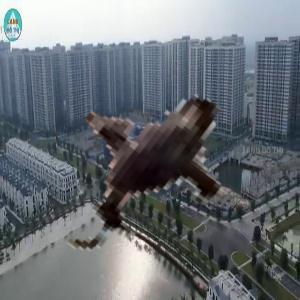drone: (16, 17, 277, 278)
